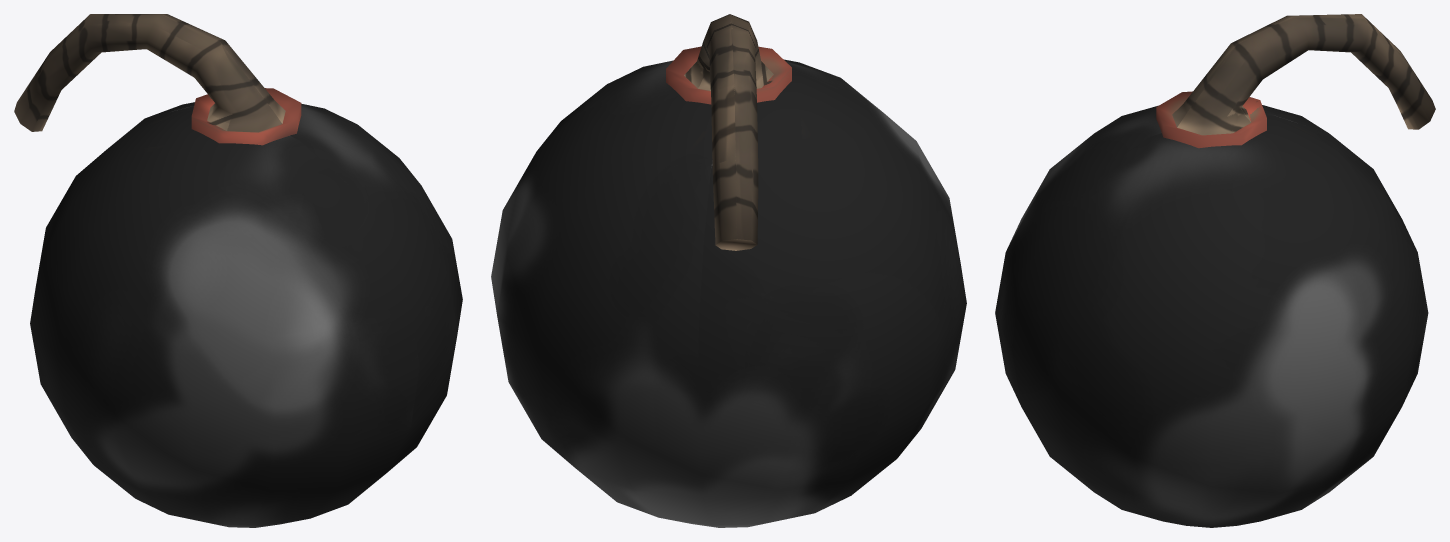
The model's file is bomb.fbx.
The picture shows the model from 3 angles, left to right: view 1: azimuth 30°, elevation 25°; view 2: azimuth 150°, elevation 25°; view 3: azimuth 270°, elevation 25°; orthographic projection. The views are drawn at different scales.
Parts seen in each view (by area): view 1: Bomb; view 2: Bomb; view 3: Bomb.
Boxes of the visible parts, x1,y1,x2,y2 form: Bomb: (14,14,462,527); Bomb: (491,14,966,527); Bomb: (995,14,1435,527).
Bounding box in the file's own units: 200 × 240 × 203.
1 material, 1 textured.
